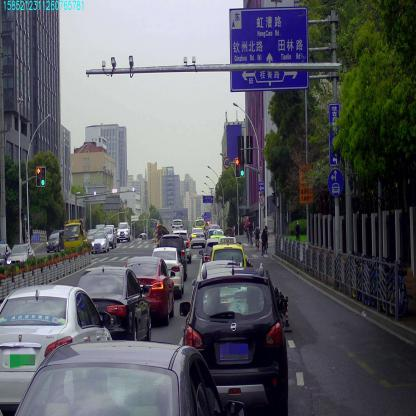traffic-light: (235, 158, 240, 177), (36, 167, 41, 186), (41, 167, 45, 186), (240, 158, 244, 176)
